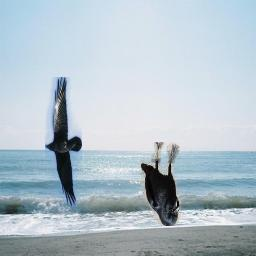Crow: (45, 77, 82, 207), (141, 142, 181, 226)
